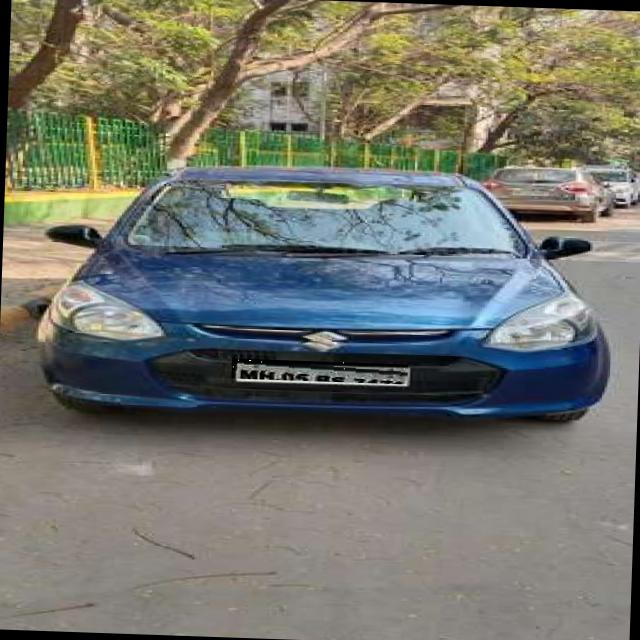Plate: (232, 359, 409, 385)
